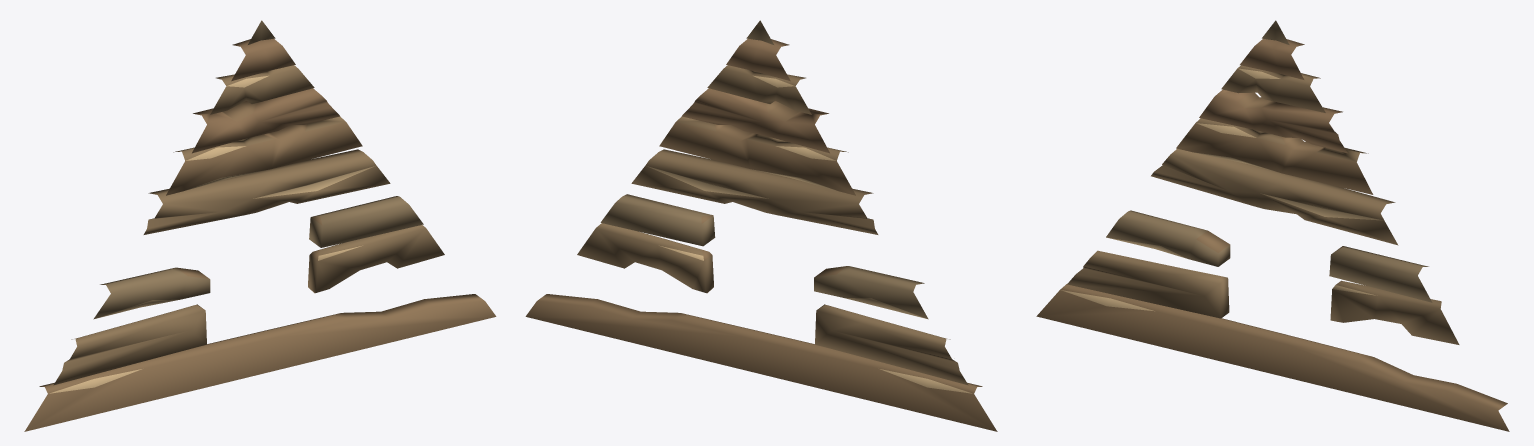
The model's file is rpgpp_av_roof_end_01_6x5_wall_window_01a.gltf.
3 views of the same model, side by side, from view 1: azimuth 30°, elevation 25°; view 2: azimuth 150°, elevation 25°; view 3: azimuth 330°, elevation 25° (orthographic).
Parts seen in each view (by area): view 1: rpgpp_av_roof_end_01_6x5_wall_window_01a; view 2: rpgpp_av_roof_end_01_6x5_wall_window_01a; view 3: rpgpp_av_roof_end_01_6x5_wall_window_01a.
Boxes of the visible parts, box(x1,y1,x2,y2) form: rpgpp_av_roof_end_01_6x5_wall_window_01a: box(24, 20, 496, 431); rpgpp_av_roof_end_01_6x5_wall_window_01a: box(525, 20, 997, 431); rpgpp_av_roof_end_01_6x5_wall_window_01a: box(1036, 20, 1509, 431).
Size of the model in its own units: 0.068 by 0.0486 by 0.00374.
1 material, 1 textured.
